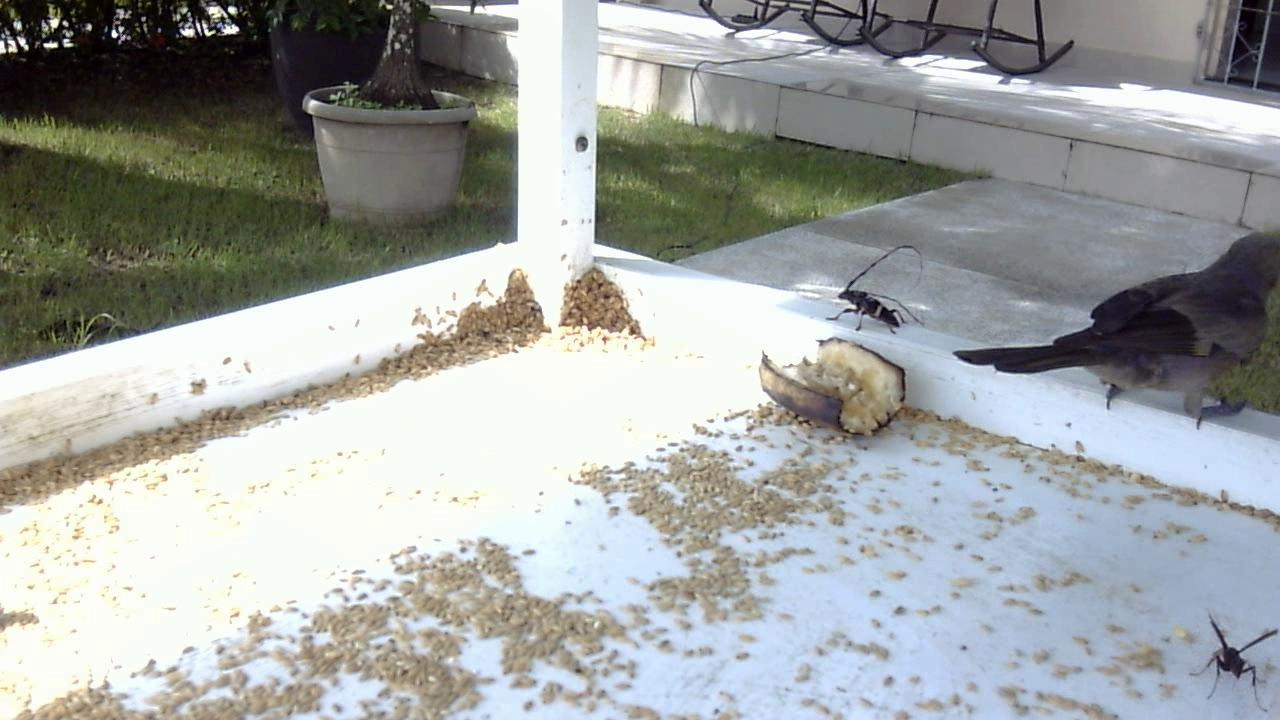sanhaco_do_coqueiro: (947, 209, 1280, 439)
